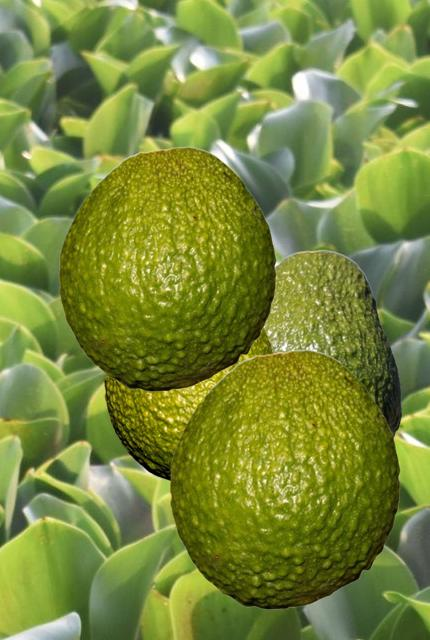avocado: (169, 349, 399, 608), (58, 146, 275, 390), (104, 328, 273, 481), (265, 249, 400, 439)
